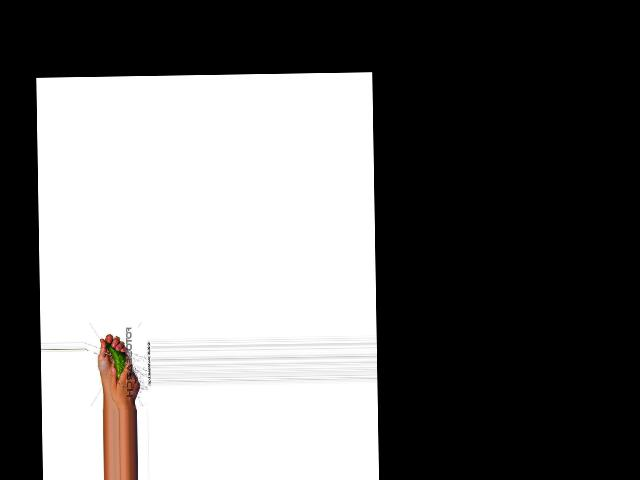cucumber: (106, 341, 127, 381)
